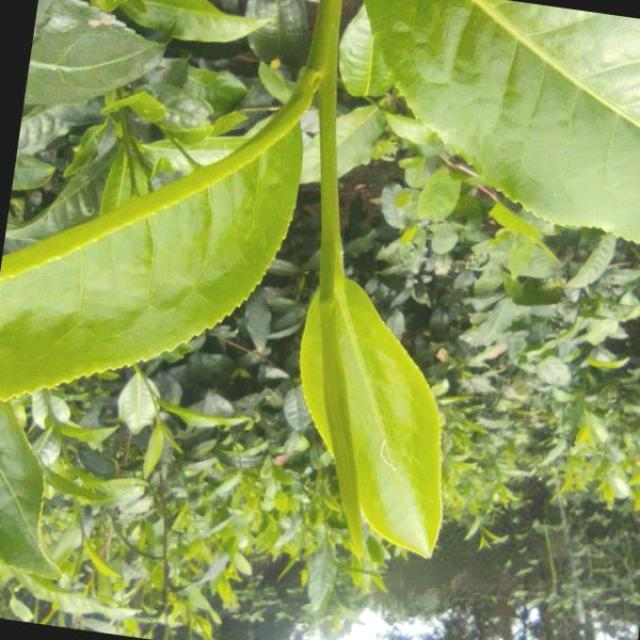Stem: (310, 49, 336, 77)
